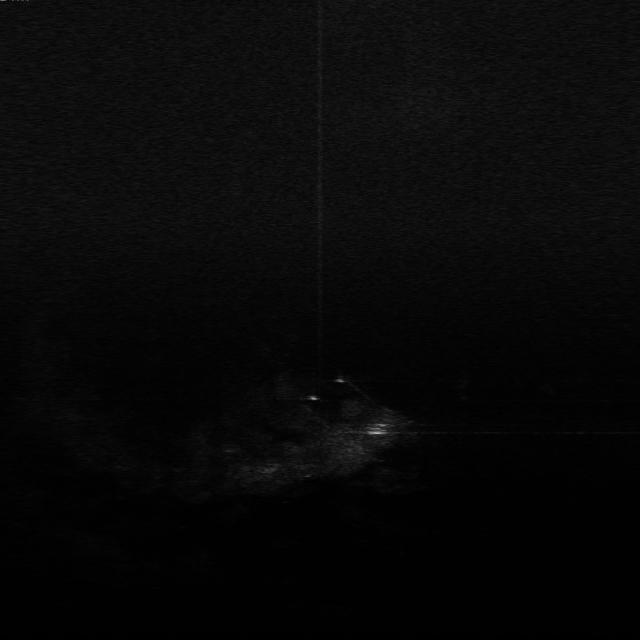rov: (364, 419, 390, 437)
